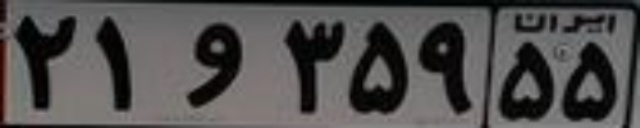1: (93, 15, 130, 110)
2: (14, 13, 75, 110)
3: (284, 18, 347, 114)
5: (348, 21, 408, 115), (495, 39, 554, 121), (558, 41, 614, 122)
9: (416, 21, 473, 116)
vav: (181, 21, 244, 108)
